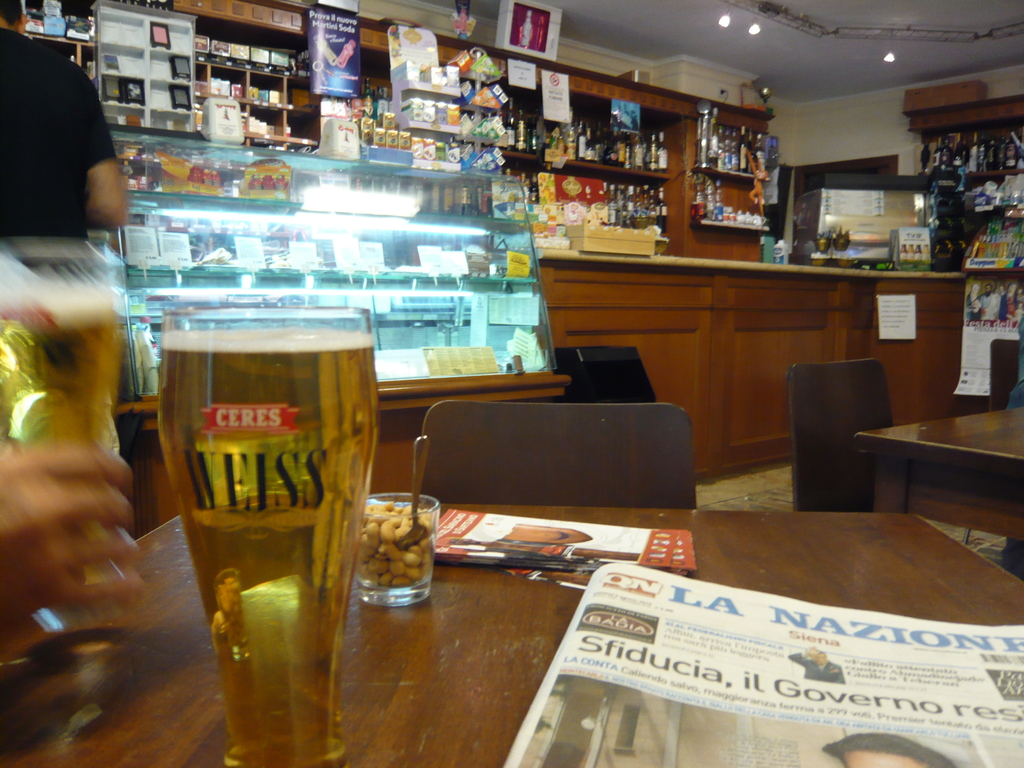Beer: (168, 324, 371, 760), (0, 298, 120, 633)
